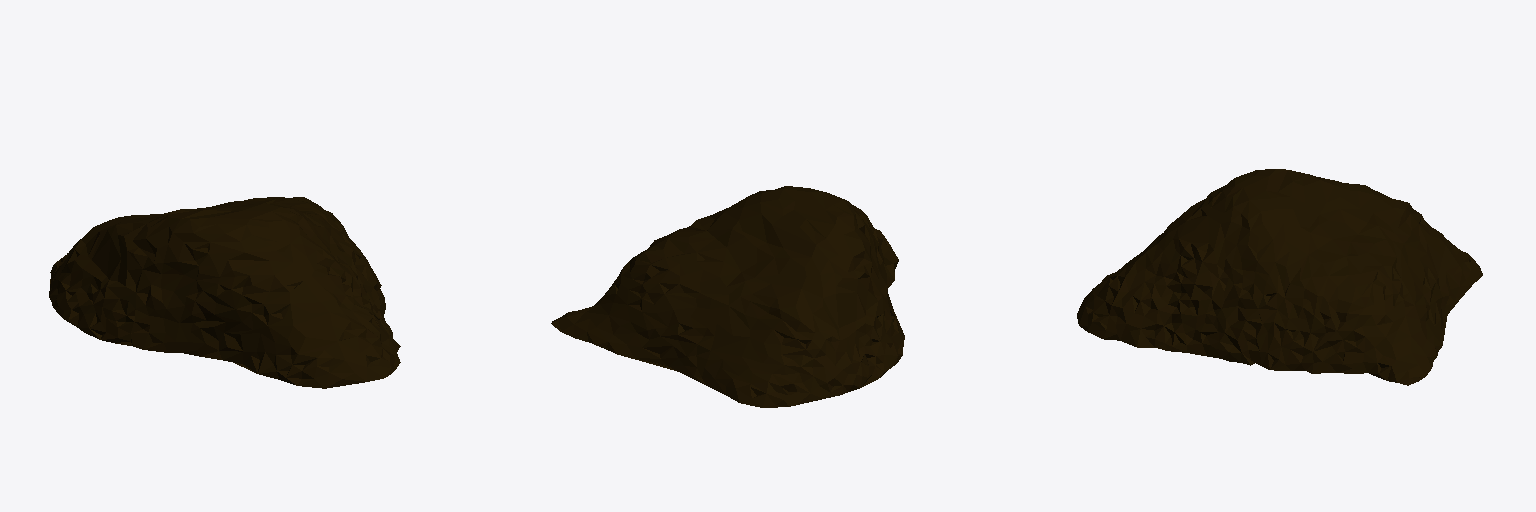
File: Object_PoritesCoral2.obj
3 views of the same model, side by side, from view 1: azimuth 30°, elevation 25°; view 2: azimuth 150°, elevation 25°; view 3: azimuth 270°, elevation 25° (orthographic).
Parts seen in each view (by area): view 1: PoritesCoral2; view 2: PoritesCoral2; view 3: PoritesCoral2.
Part boxes in pixels (left/top/right/bottom): PoritesCoral2: left=49, top=197, right=400, bottom=388; PoritesCoral2: left=551, top=186, right=904, bottom=407; PoritesCoral2: left=1077, top=169, right=1482, bottom=385.
Size of the model in its own units: 8.74 by 3.1 by 10.14.